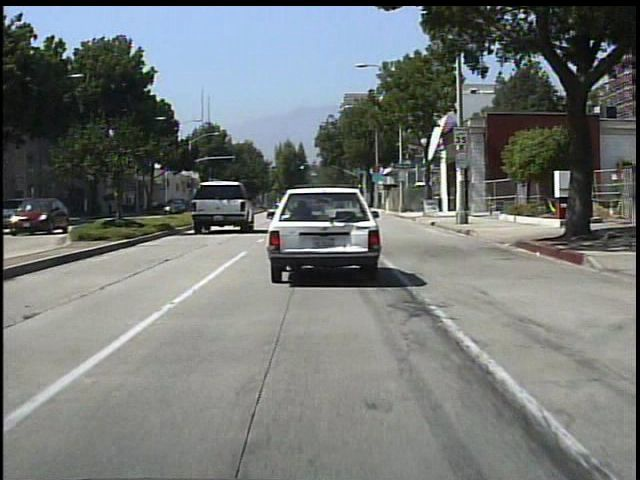person: (106, 196, 118, 219), (152, 196, 161, 216)
